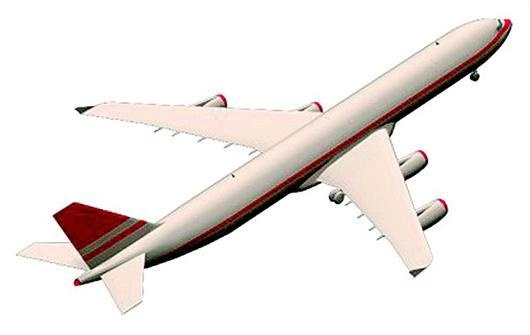airplane: (11, 14, 513, 312)
